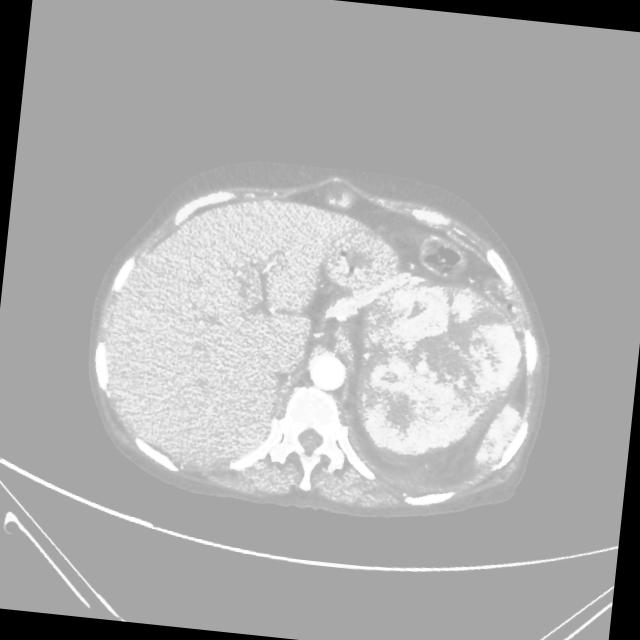TUMOR: (345, 296, 554, 528)
